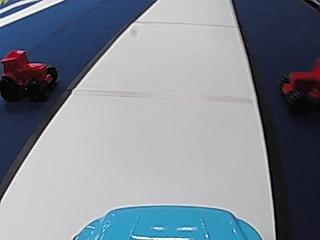tractor: (0, 47, 57, 102), (279, 55, 318, 117)
